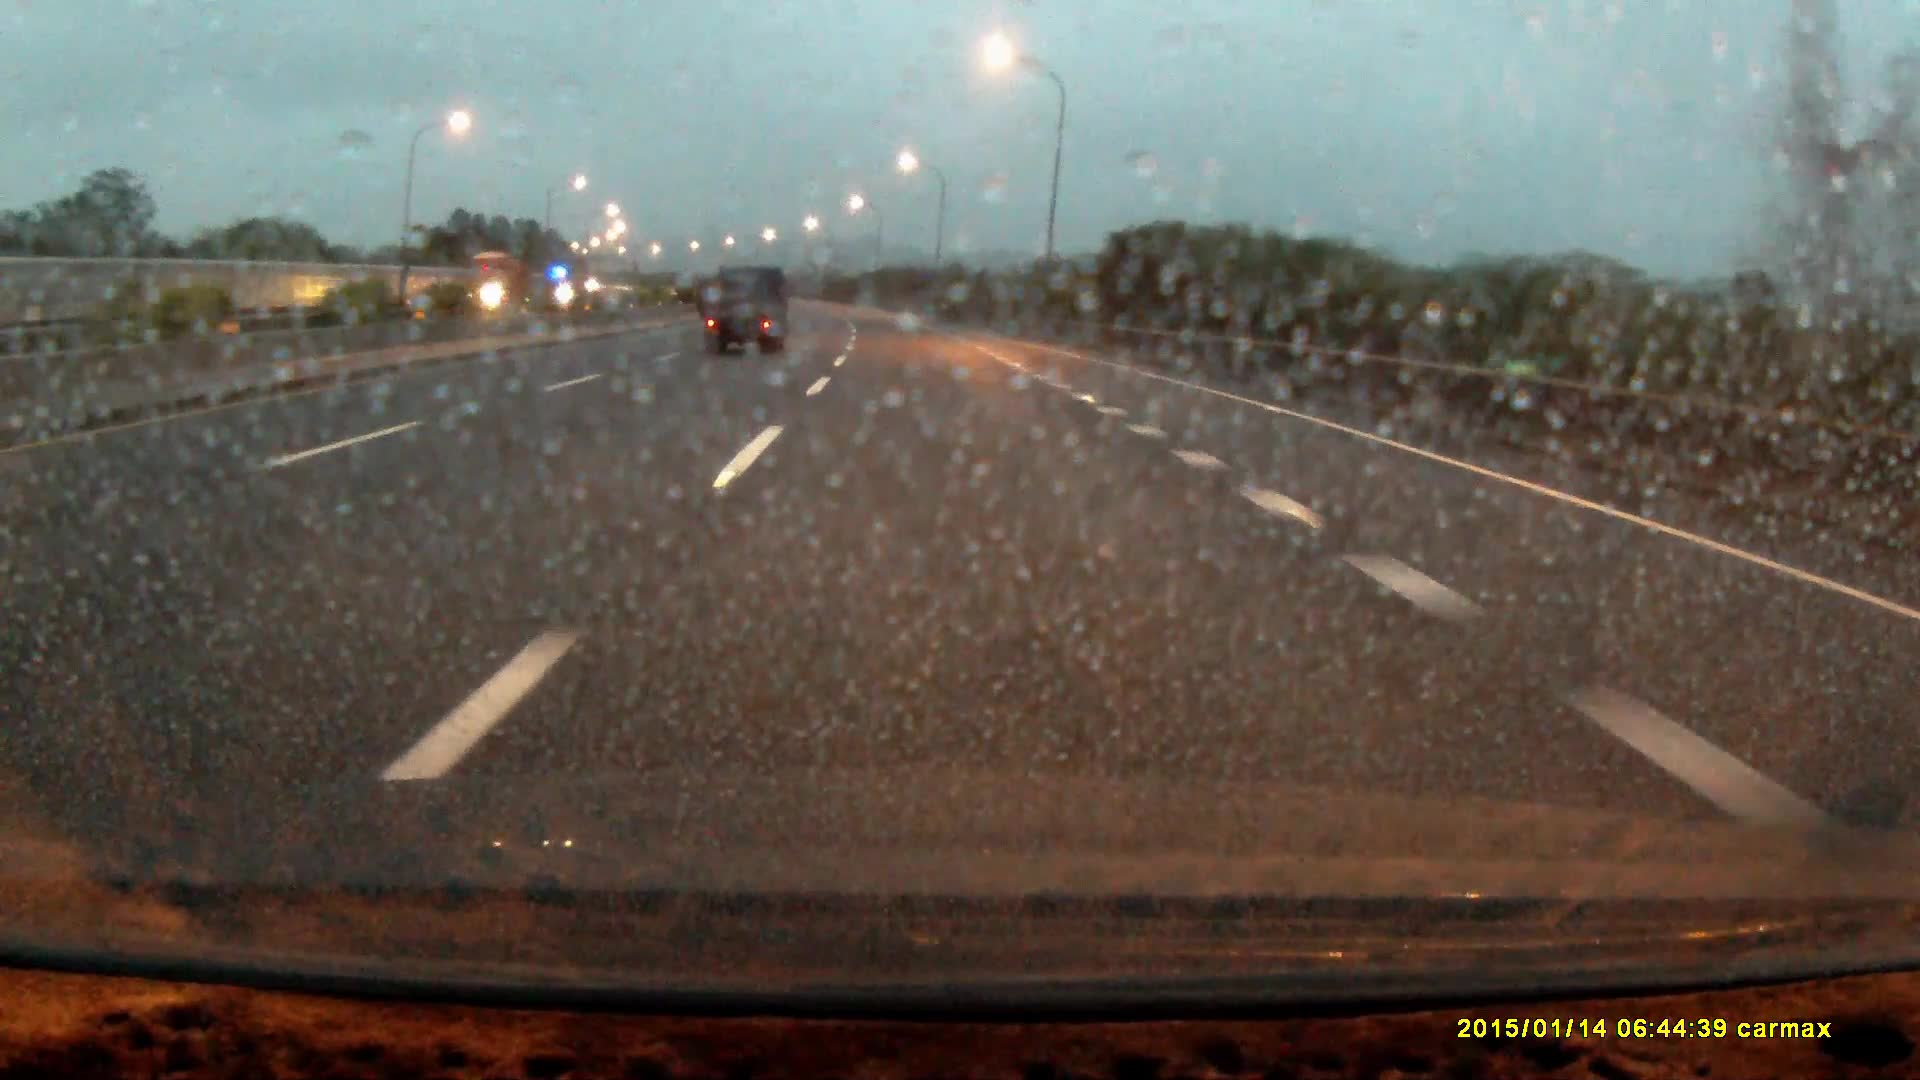vehicle: (707, 266, 786, 360), (462, 251, 531, 311)
